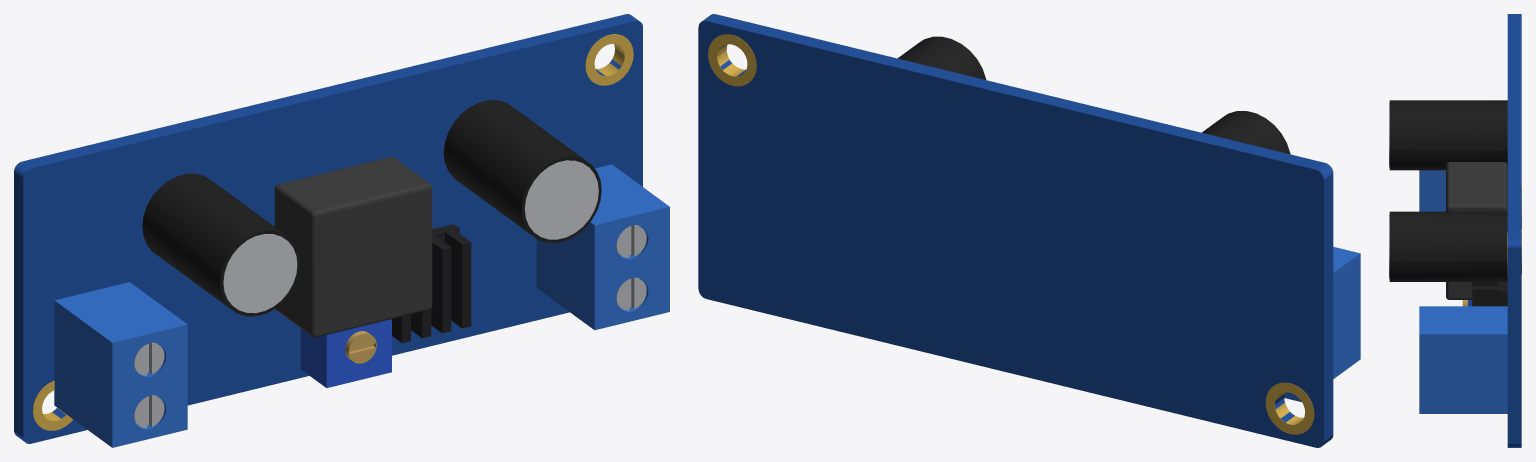
File: buck-regu5a-bb.glb
The picture shows the model from 3 angles, left to right: view 1: azimuth 30°, elevation 25°; view 2: azimuth 150°, elevation 25°; view 3: azimuth 270°, elevation 25°; orthographic projection. The views are drawn at different scales.
Parts seen in each view (by area): view 1: board, inductor_1, terminal_4, terminal_5, elcap_2, elcap_3, heatsink_7, elcap_3_top, elcap_2_top, pot_6, hole_2, terminal_5_screws (+3 smaller); view 2: board, terminal_4, elcap_3, elcap_2, hole_2, hole_1; view 3: terminal_5, elcap_3, elcap_2, board, inductor_1, terminal_4, heatsink_7.
Part boxes in pixels (x1,y1,x2,y2): board: (14, 14, 642, 443); inductor_1: (274, 157, 432, 337); terminal_4: (54, 282, 187, 447); terminal_5: (536, 164, 669, 330); elcap_2: (142, 173, 300, 316); elcap_3: (443, 100, 601, 242); heatsink_7: (392, 224, 471, 343); elcap_3_top: (524, 160, 598, 239); elcap_2_top: (223, 234, 297, 313); pot_6: (300, 319, 391, 387); hole_2: (585, 34, 633, 85); terminal_5_screws: (616, 225, 646, 310); board: (698, 14, 1333, 447); terminal_4: (1284, 247, 1360, 402); elcap_3: (897, 36, 986, 79); elcap_2: (1202, 111, 1290, 154); hole_2: (708, 34, 756, 86); hole_1: (1265, 382, 1314, 434); terminal_5: (1419, 306, 1507, 413); elcap_3: (1389, 211, 1507, 281); elcap_2: (1389, 100, 1507, 170); board: (1507, 14, 1521, 447); inductor_1: (1446, 162, 1507, 299); terminal_4: (1419, 170, 1445, 211); heatsink_7: (1472, 282, 1507, 306).
Bounding box in the file's own units: 61.7 × 26.2 × 15.08.
